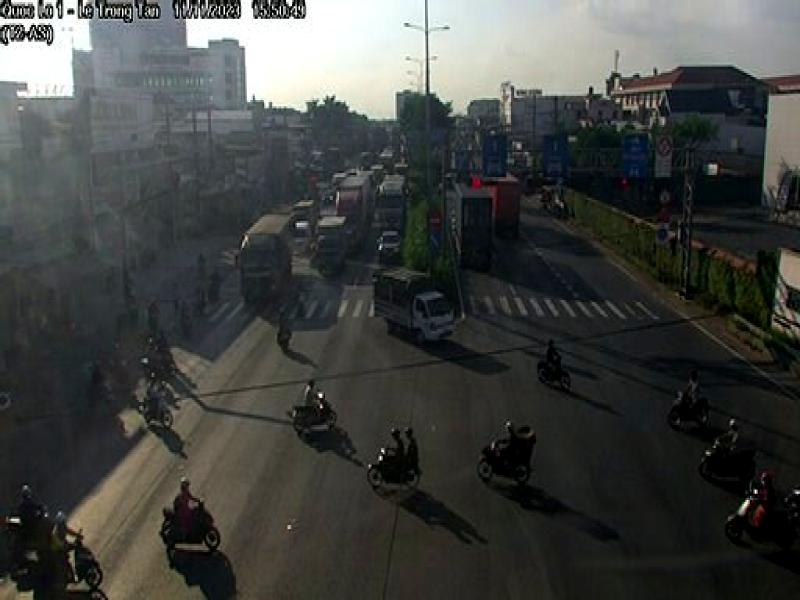truck: (371, 265, 458, 345)
